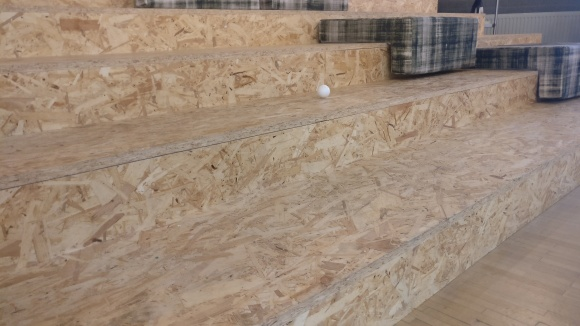egg: (317, 84, 331, 99)
